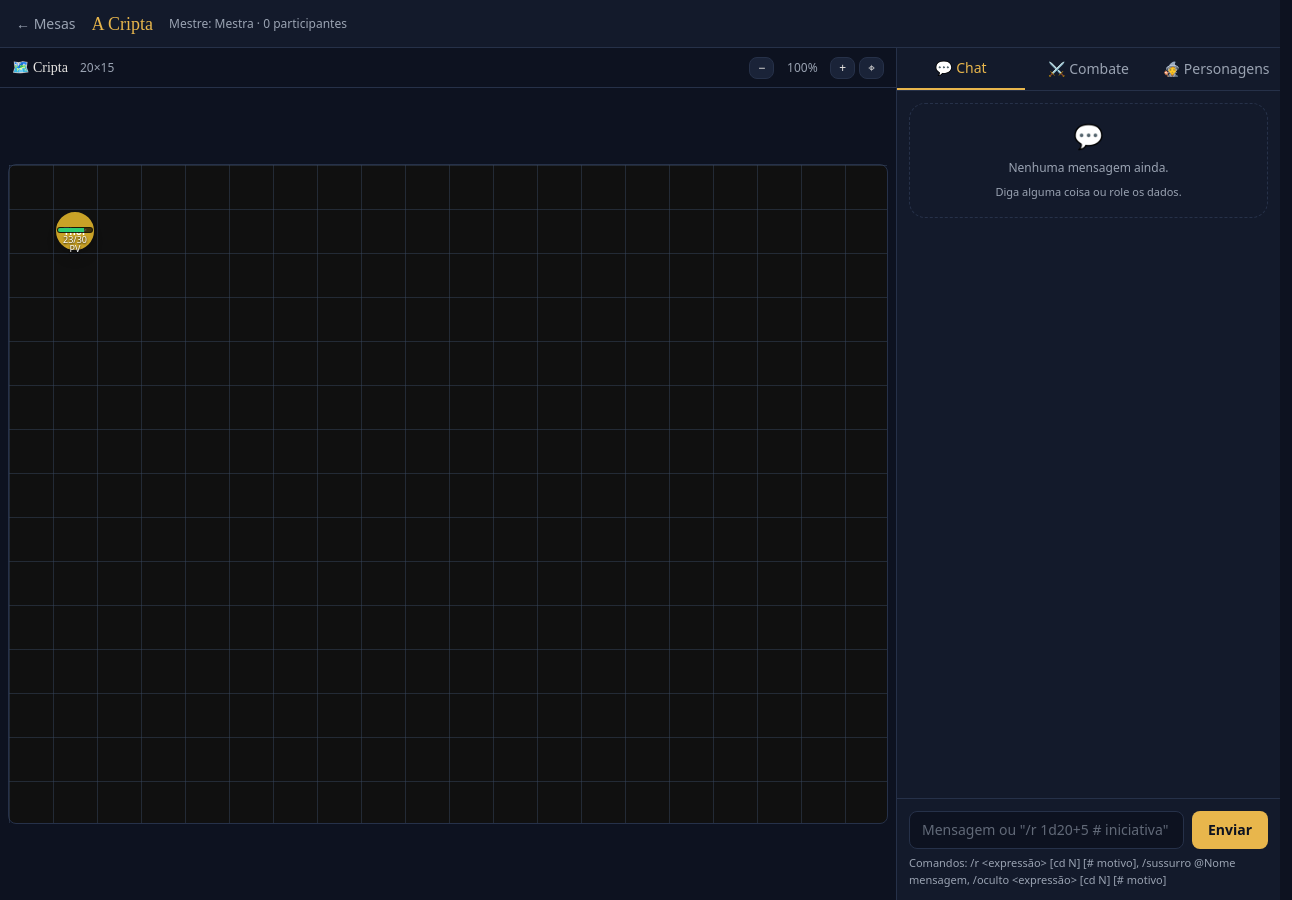
PaginaMesa — a aba de combate tem caminho na tela (RV-063) › fora da luta a aba mostra o estado vazio, e o jogador não vê botão de iniciar
Click the button "⚔️ Combate" at [1089, 69], box [1025,48,1152,90]
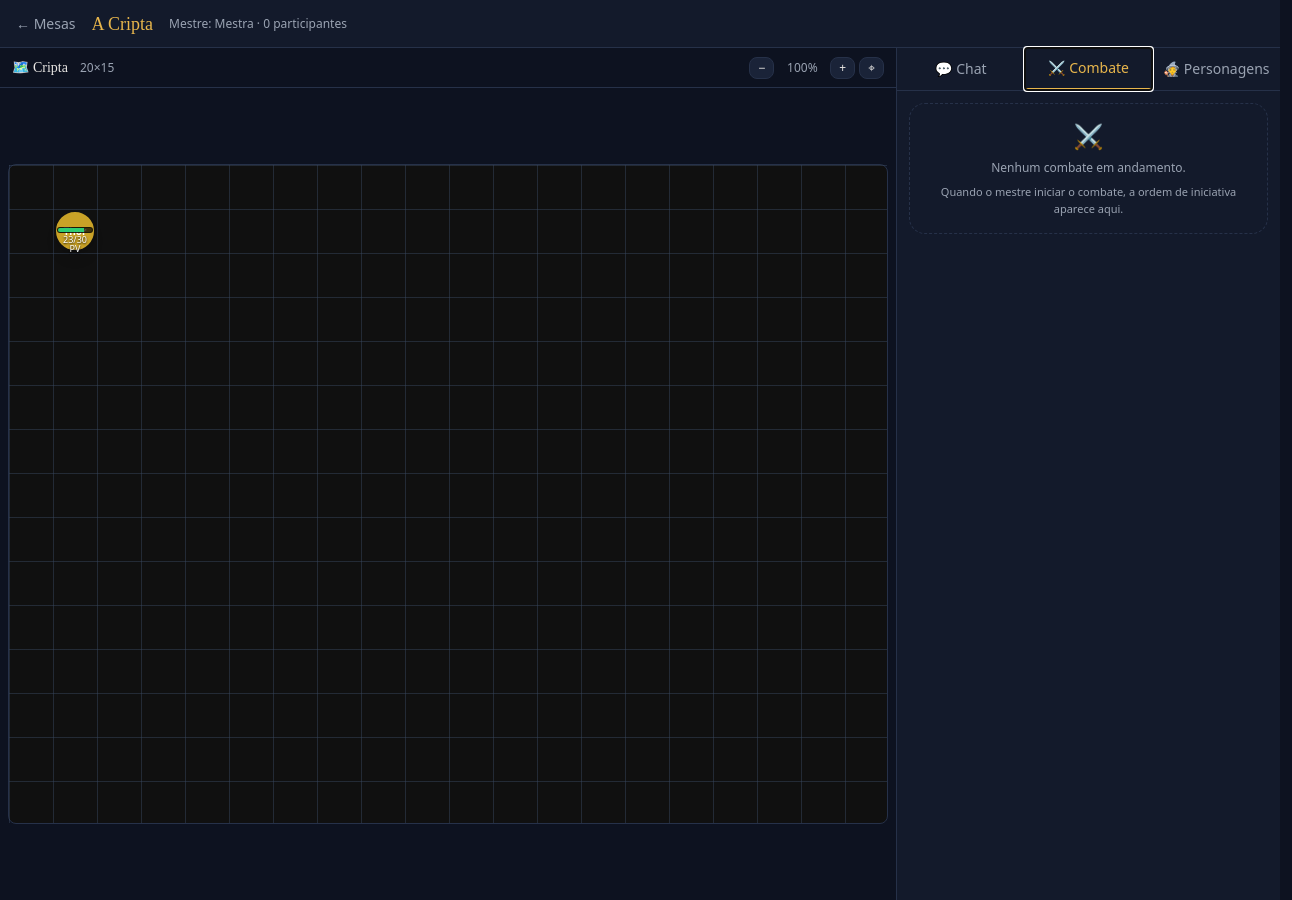
Now the text "Nenhum combate em andamento." is shown, box [991,160,1186,176]
